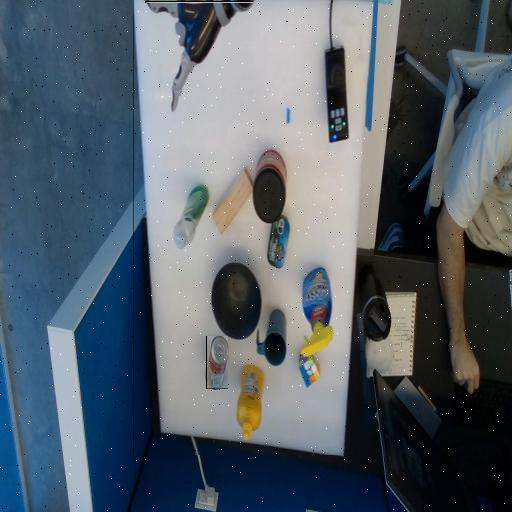bowl: (213, 262, 261, 336)
cleanser: (174, 200, 209, 234)
coffee_can: (253, 169, 286, 201)
jaco: (145, 2, 253, 109)
meat_can: (268, 216, 289, 267)
mug: (257, 322, 286, 351)
mustard_bottle: (239, 365, 263, 437)
rubik: (299, 359, 320, 380)
soup_can: (207, 336, 227, 388)
windex: (302, 296, 333, 326)
wooden_block: (213, 166, 253, 232)
workspace: (134, 3, 370, 455)
